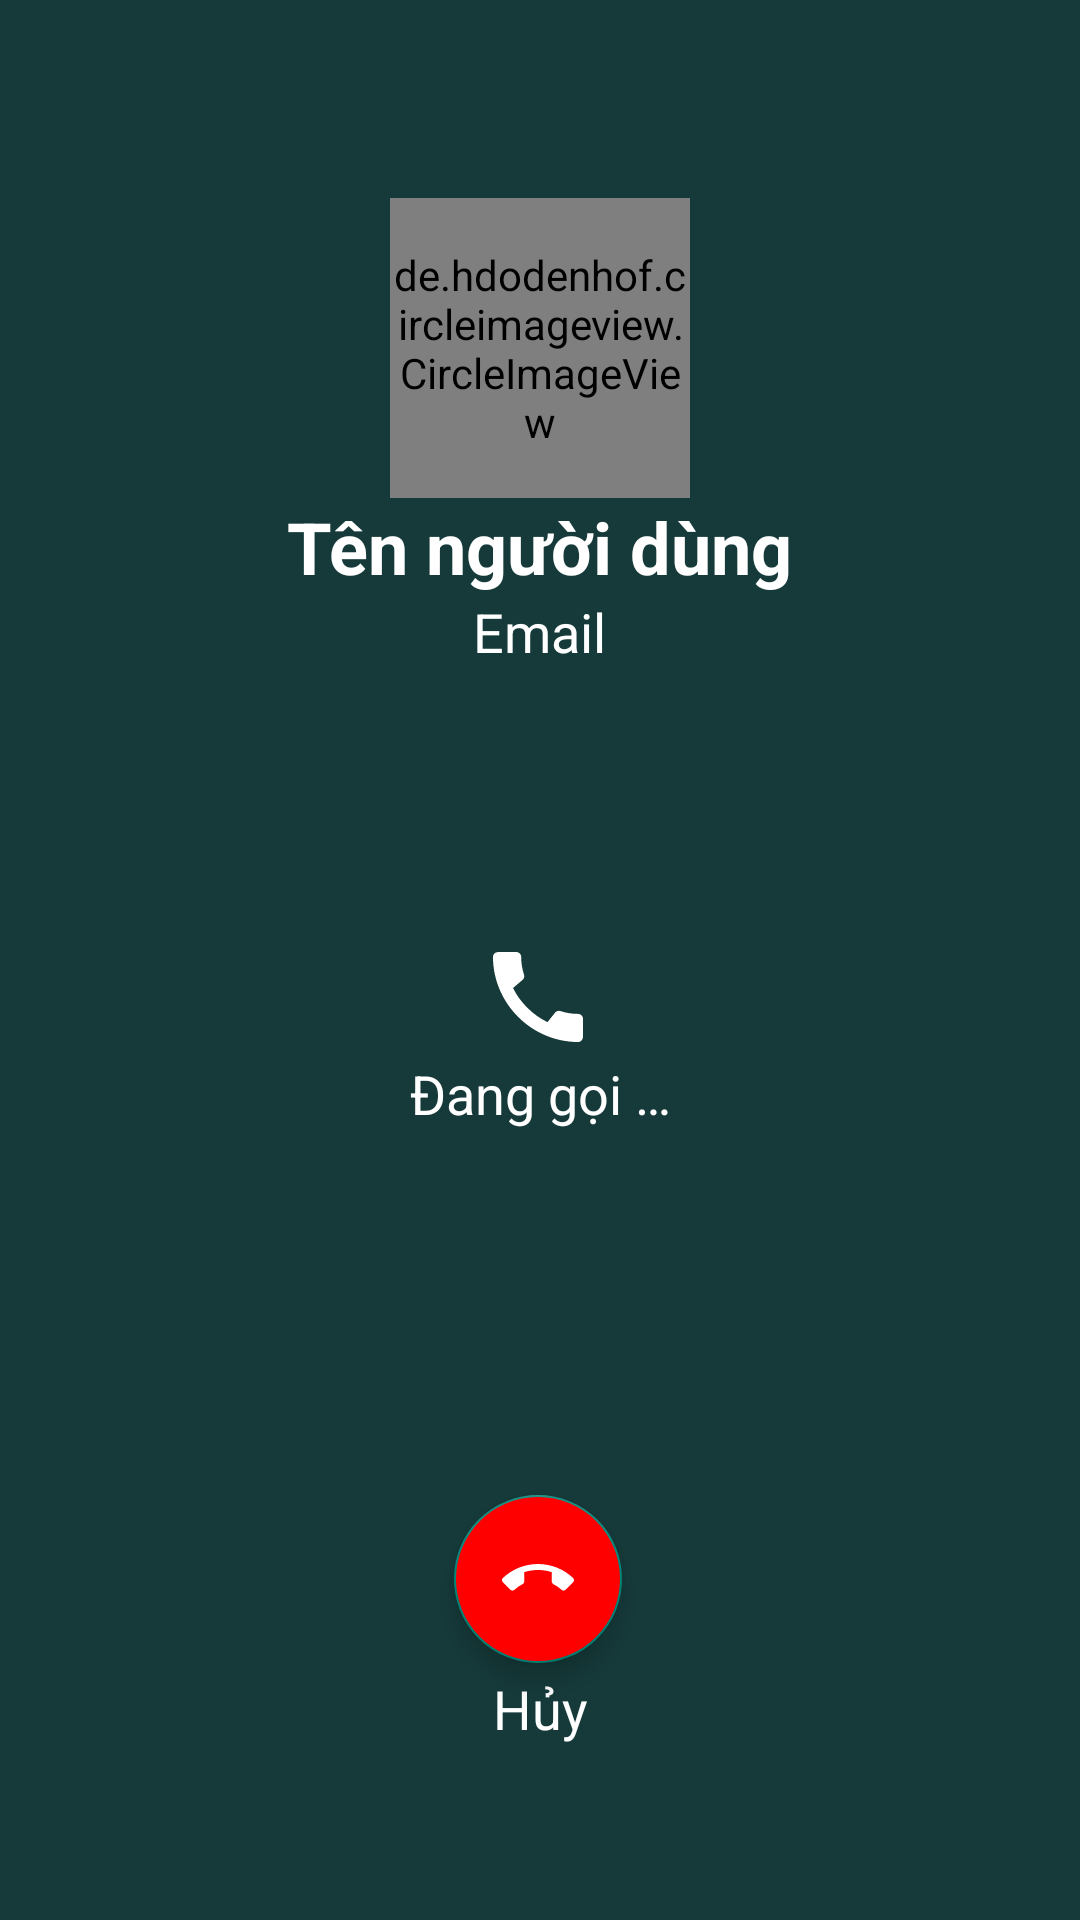

Screen size 1080w x 1920h. Icon name, then its center in pixels as (x=x, y=y):
call: (x=538, y=997)
call end: (x=538, y=1579)
